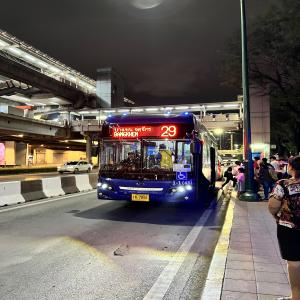Bus Line Number: (159, 124, 178, 138)
Bus Side Number: (170, 179, 193, 186)
Destination Sign: (112, 125, 154, 139)
TSB-Bus: (96, 113, 216, 206)
